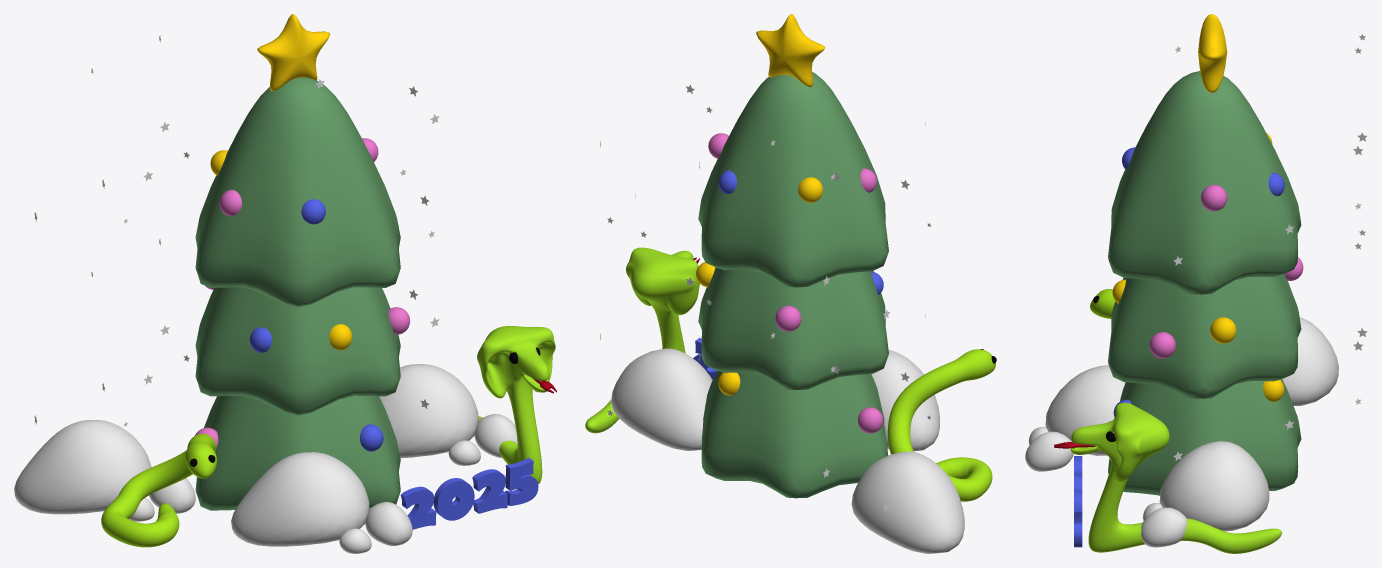
3 renders of one model, left to right at view 1: azimuth 30°, elevation 25°; view 2: azimuth 150°, elevation 25°; view 3: azimuth 270°, elevation 25°, orthographic. The views are drawn at different scales.
Parts seen in each view (by area): view 1: Cylinder.003, Cylinder.001, Cylinder.002, Sphere.018, Sphere.020, Sphere.019, Cube.001, Zmeya, Text, Zvezda; view 2: Cylinder.003, Cylinder.002, Cylinder.001, Sphere.020, Sphere.019, Cube.001, Zmeya, Sphere.018, Zvezda, Sphere.012, Sphere.015, Sphere.013; view 3: Cylinder.003, Cylinder.001, Cylinder.002, Sphere.019, Cube.001, Sphere.018, Sphere.020, Zvezda, Text, Sphere.011, Sphere.005, Sphere.009 (+1 smaller).
Boxes of the visible parts, box(x1,y1,x2,y2) form: Cylinder.003: box(195, 77, 400, 307); Cylinder.001: box(195, 287, 400, 415); Cylinder.002: box(195, 395, 400, 510); Sphere.018: box(231, 452, 412, 553); Sphere.020: box(14, 420, 195, 521); Sphere.019: box(379, 364, 517, 465); Cube.001: box(477, 326, 555, 483); Zmeya: box(101, 433, 216, 547); Text: box(400, 458, 538, 529); Zvezda: box(257, 14, 330, 91); Cylinder.003: box(698, 72, 888, 287); Cylinder.002: box(701, 371, 888, 498); Cylinder.001: box(698, 267, 888, 389); Sphere.020: box(851, 451, 964, 553); Sphere.019: box(611, 348, 712, 450); Cube.001: box(585, 247, 699, 433); Zmeya: box(887, 349, 996, 501); Sphere.018: box(871, 350, 939, 451); Zvezda: box(756, 14, 825, 87); Sphere.012: box(775, 305, 801, 331); Sphere.015: box(858, 407, 883, 433); Sphere.013: box(798, 177, 822, 202); Cylinder.003: box(1108, 71, 1301, 294); Cylinder.001: box(1108, 274, 1301, 398); Cylinder.002: box(1108, 379, 1301, 495); Sphere.019: box(1141, 441, 1269, 547); Cube.001: box(1070, 402, 1281, 553); Sphere.018: box(1025, 365, 1125, 471); Sphere.020: box(1282, 317, 1338, 405); Zvezda: box(1198, 14, 1227, 92); Text: box(1074, 456, 1082, 547); Sphere.011: box(1201, 184, 1227, 211); Sphere.005: box(1210, 317, 1236, 343); Sphere.009: box(1149, 332, 1175, 358).
Size of the model in its own units: 1.83 by 1.9 by 1.29.
